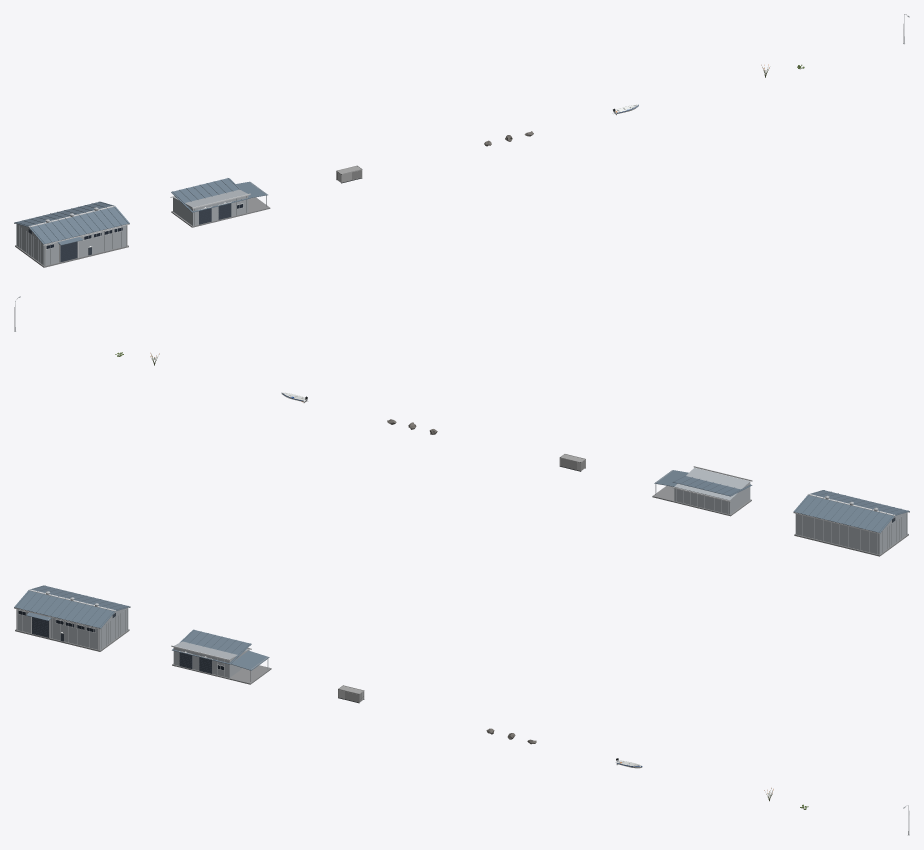
The model's file is kit.glb.
3 views of the same model, one above another, from view 1: azimuth 30°, elevation 25°; view 2: azimuth 150°, elevation 25°; view 3: azimuth 330°, elevation 25° (orthographic).
Visible parts, largest first — view 1: BODEGA_A__M_roof, BODEGA_A__M_wall, BODEGA_B__M_wall, BODEGA_B__M_roof, BODEGA_A__M_trim; view 2: BODEGA_A__M_roof, BODEGA_A__M_wall, BODEGA_B__M_wall, BODEGA_B__M_roof; view 3: BODEGA_A__M_roof, BODEGA_A__M_wall, BODEGA_B__M_roof, BODEGA_B__M_wall, BODEGA_B__M_concrete, BODEGA_A__M_trim.
Boxes of the visible parts, <box> form: BODEGA_A__M_roof: <box>14,201,129,245</box>; BODEGA_A__M_wall: <box>16,224,126,265</box>; BODEGA_B__M_wall: <box>173,189,248,225</box>; BODEGA_B__M_roof: <box>171,178,267,212</box>; BODEGA_A__M_trim: <box>14,205,129,266</box>; BODEGA_A__M_roof: <box>793,490,909,532</box>; BODEGA_A__M_wall: <box>795,512,907,554</box>; BODEGA_B__M_wall: <box>674,467,750,514</box>; BODEGA_B__M_roof: <box>654,470,752,496</box>; BODEGA_A__M_roof: <box>14,585,130,628</box>; BODEGA_A__M_wall: <box>17,608,128,649</box>; BODEGA_B__M_roof: <box>172,629,269,670</box>; BODEGA_B__M_wall: <box>173,641,249,677</box>; BODEGA_B__M_concrete: <box>172,663,271,684</box>; BODEGA_A__M_trim: <box>14,589,130,650</box>.
Size of the model in its own units: 253 by 9.49 by 16.11.
